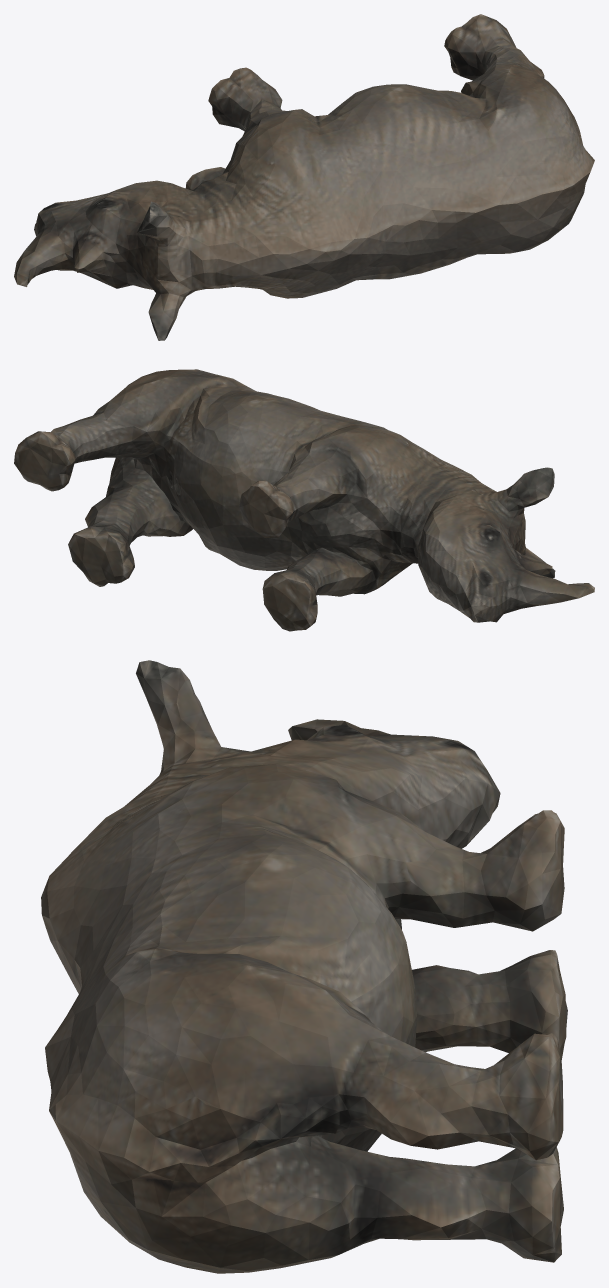
3 views of the same model, one above another, from view 1: azimuth 30°, elevation 25°; view 2: azimuth 150°, elevation 25°; view 3: azimuth 270°, elevation 25° (orthographic). The views are drawn at different scales.
Size of the model in its own units: 0.1373 by 0.0413 by 0.0603.
1 material, 1 textured.
